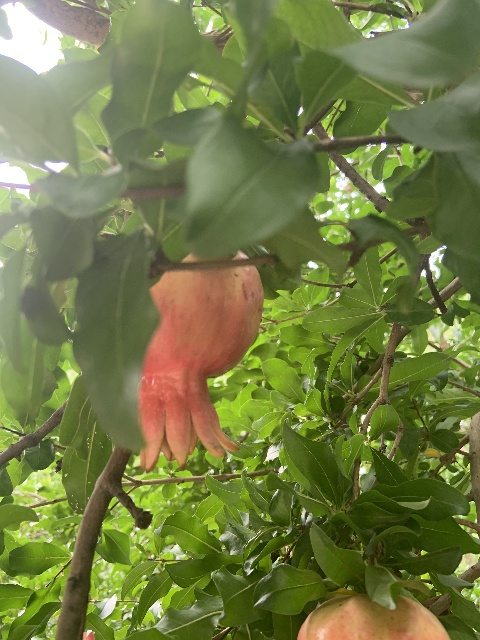early-fruit: (133, 248, 263, 470)
